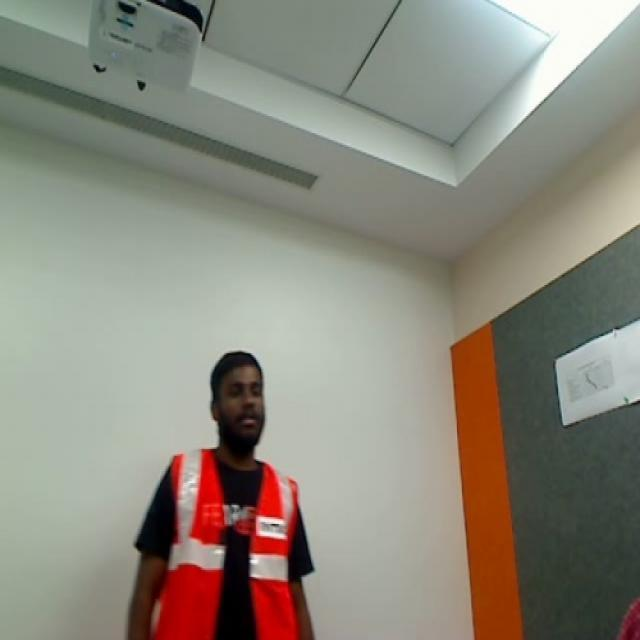safety_helmet: (165, 447, 305, 640)
